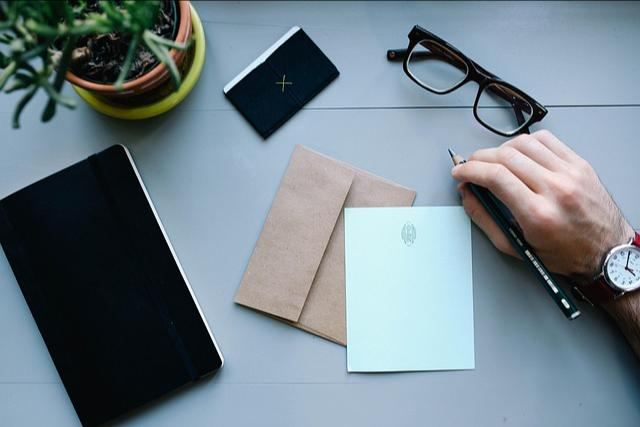Non_Gorille: (16, 10, 636, 426)
